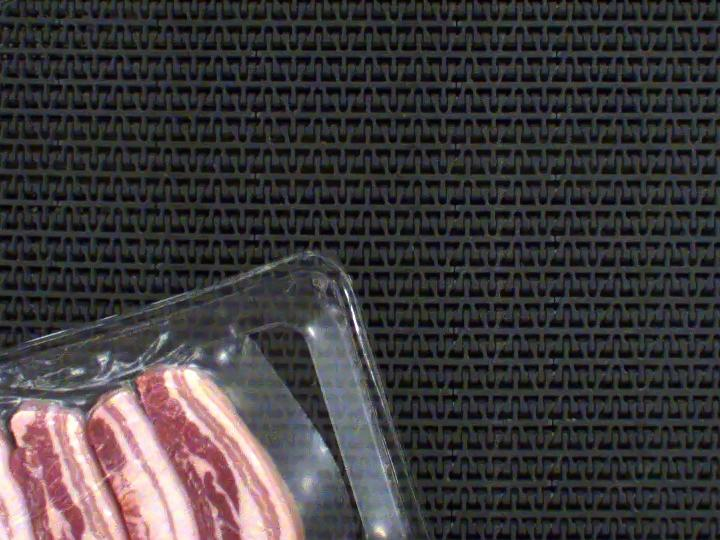unsealed: (0, 280, 436, 540)
